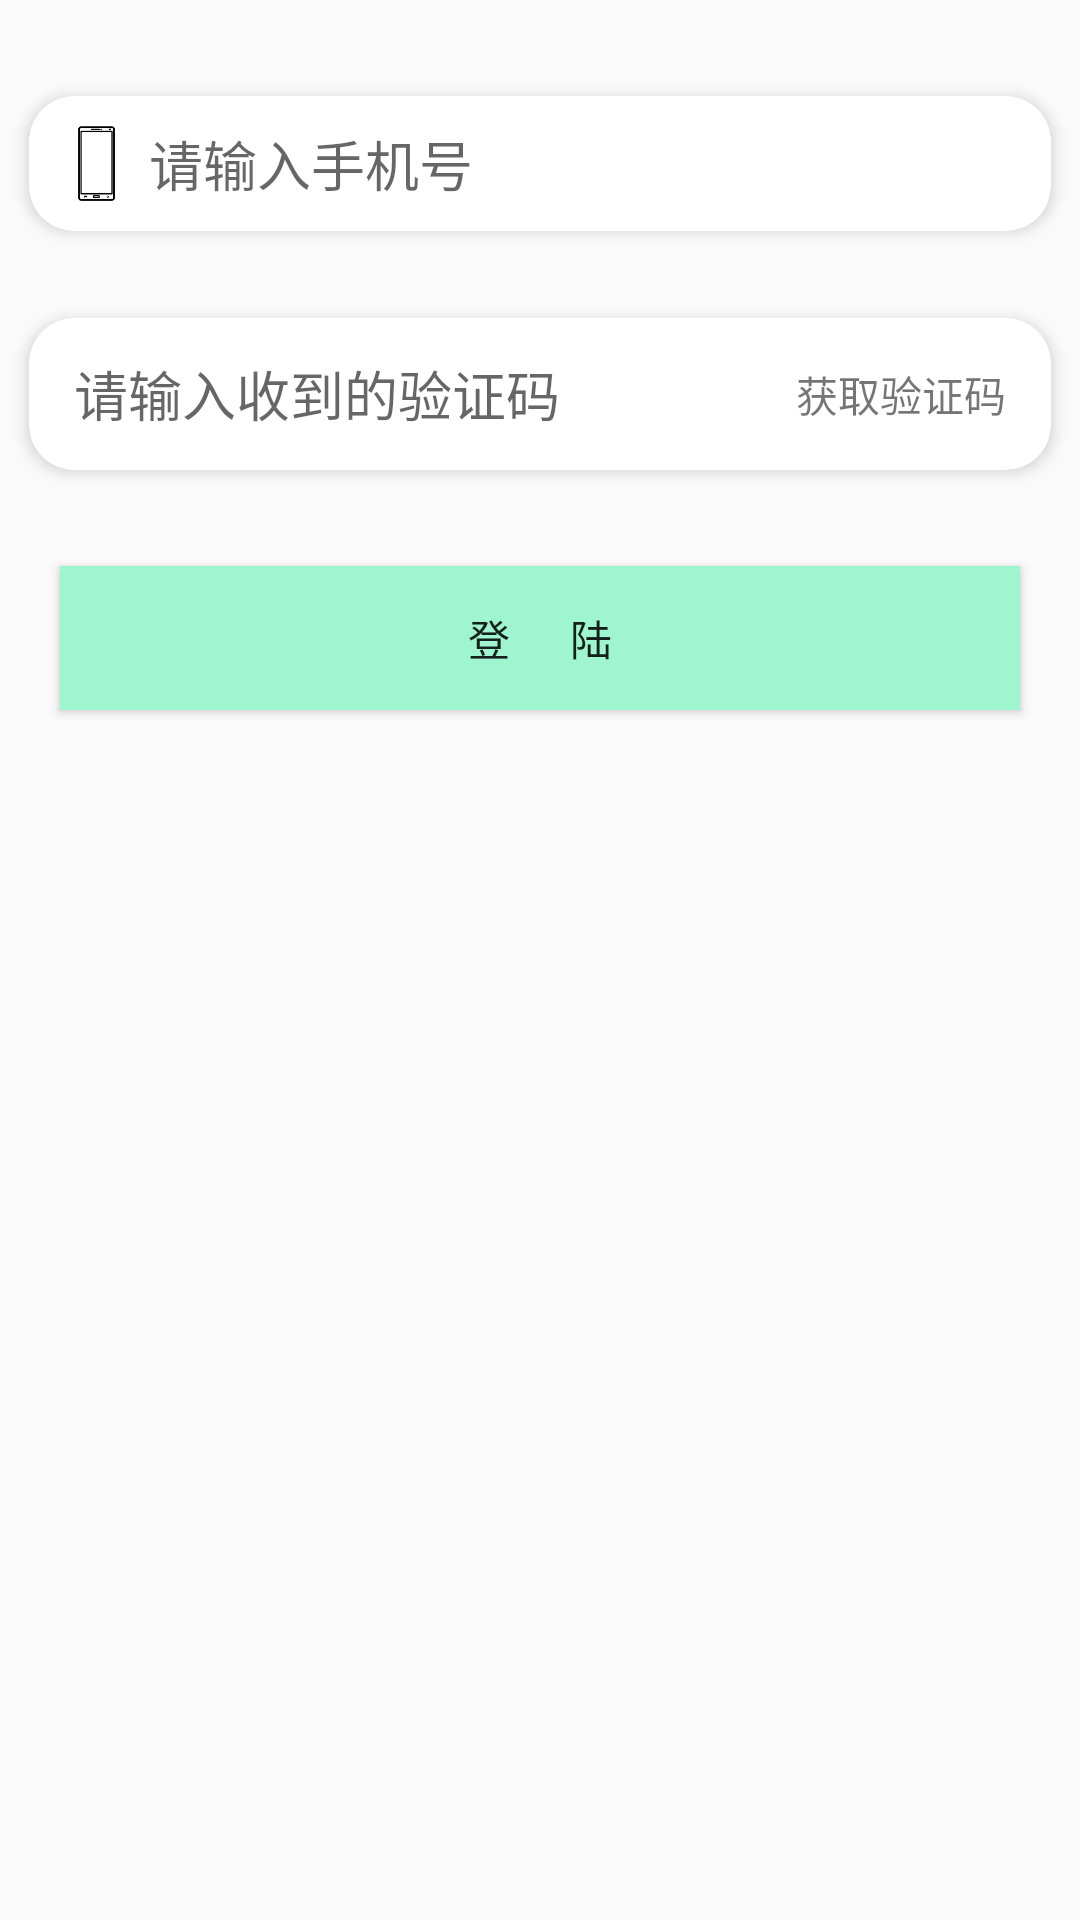

Screen size 1080 × 1920. Icon name, then its box in pixels as rect(x1, y1, x2, y2):
phone: rect(78, 126, 115, 201)
